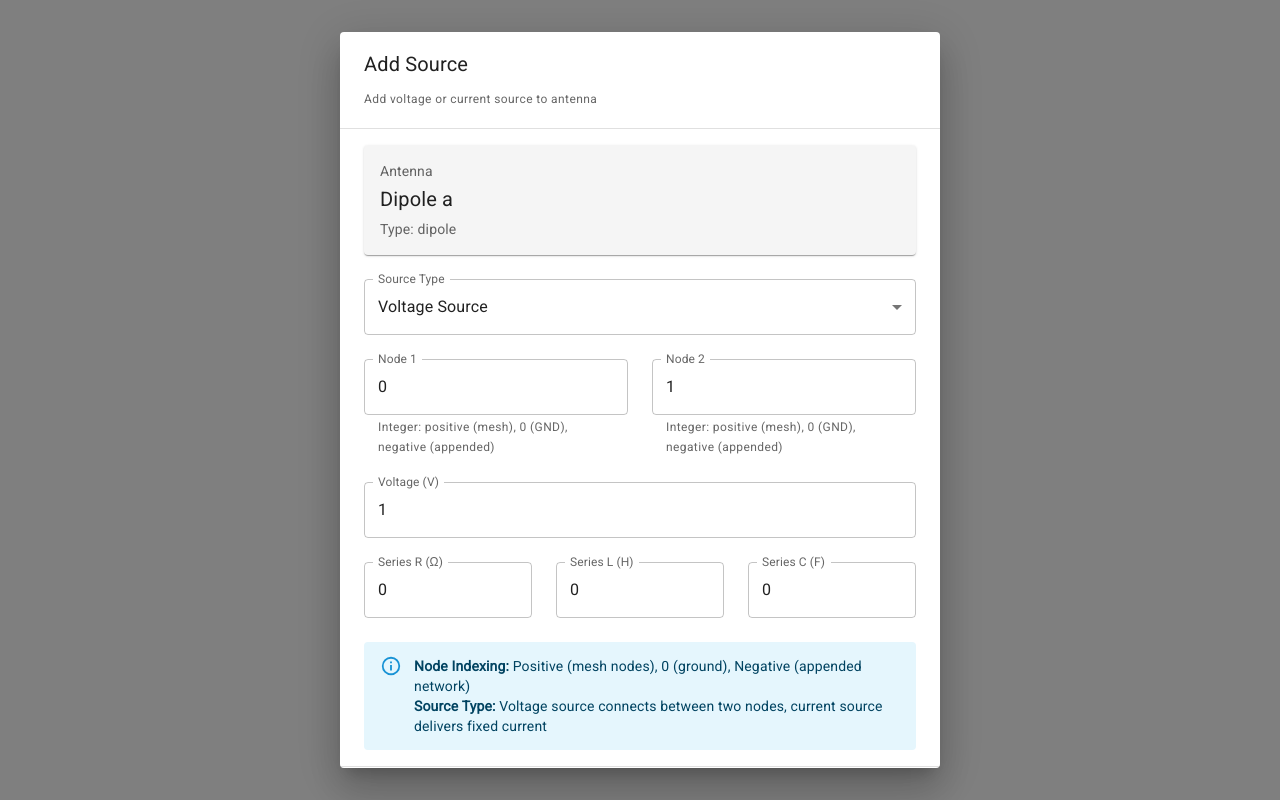
Test: SourceDialog node range (B23) › accepts the last node and rejects one beyond it
This screenshot has width=1280, height=800.
Replace the text in the field labelled "Node 1" with "7" at (496, 387), box [364,359,628,415]
(page scrolled)
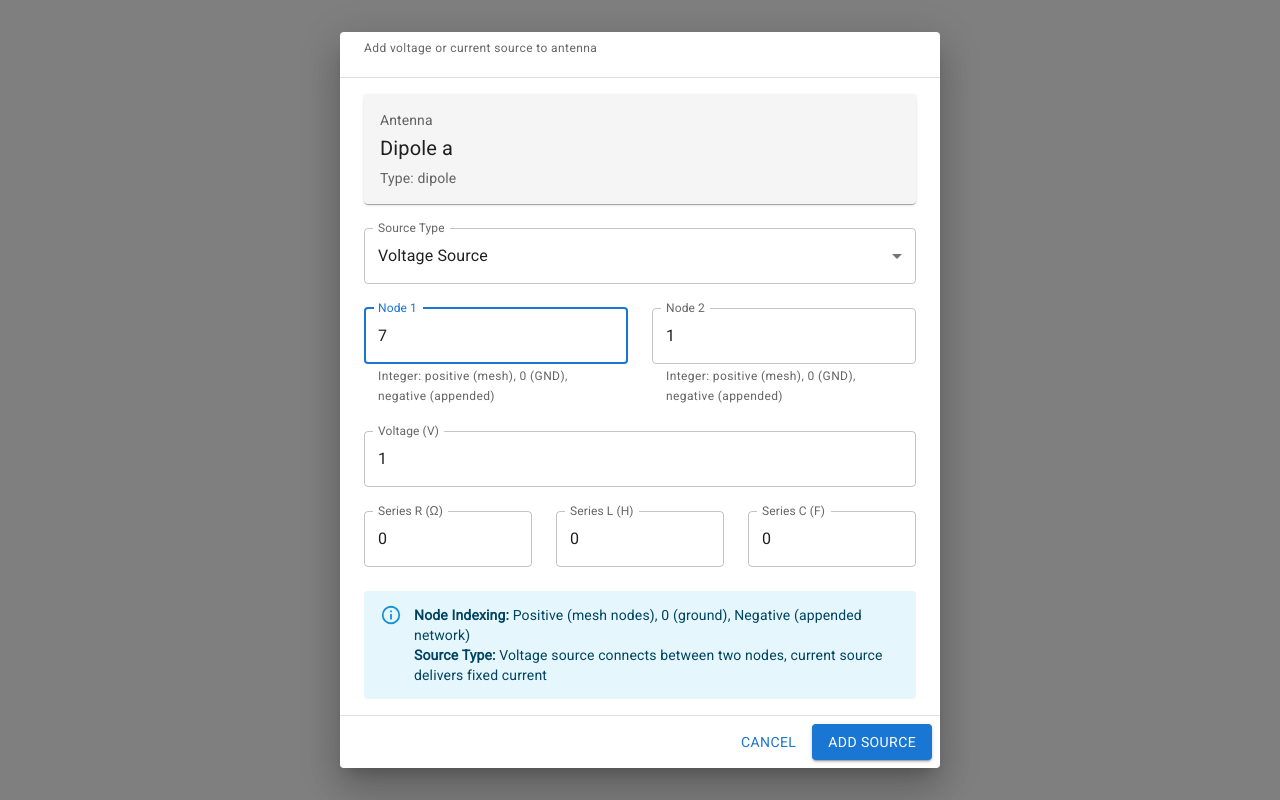
Click the button "Add Source" at (872, 742), box [812,724,932,760]
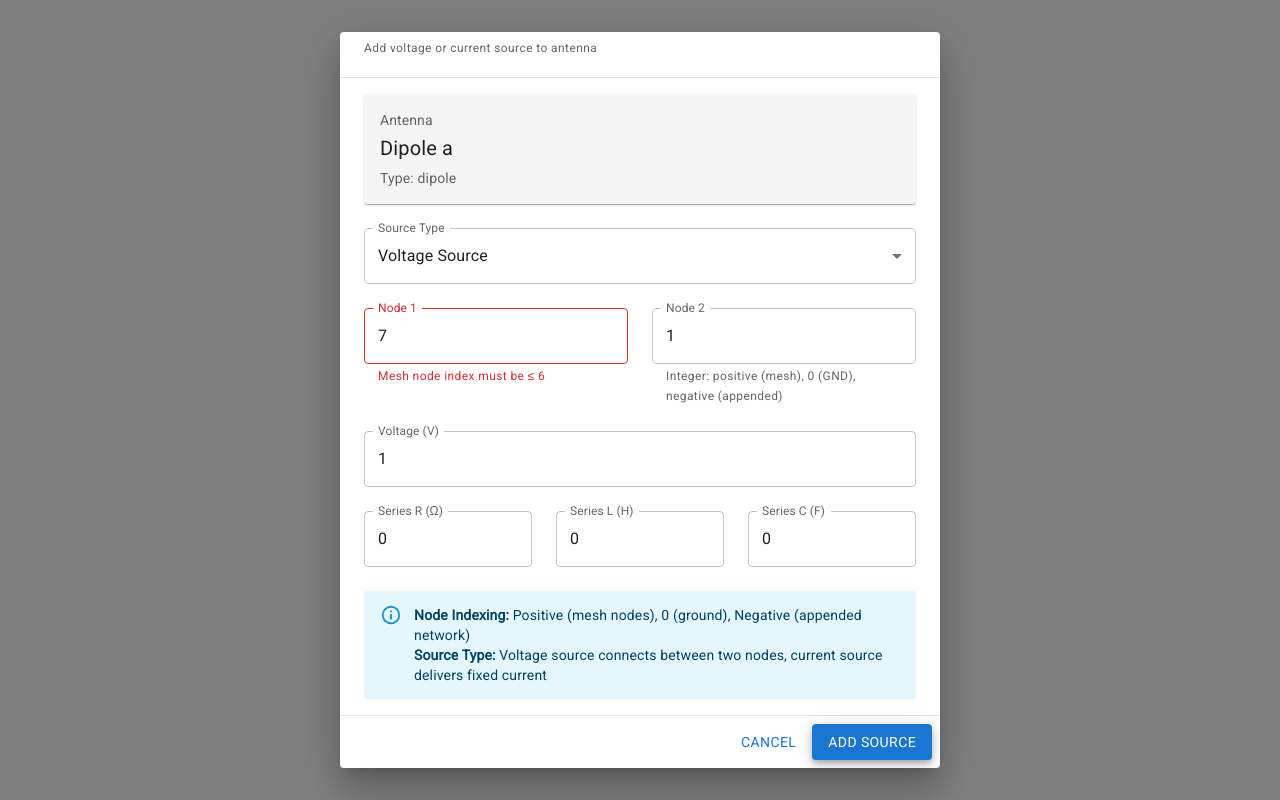
expect the text "Mesh node index must be ≤ 6" is shown: met, box [378,369,545,383]
